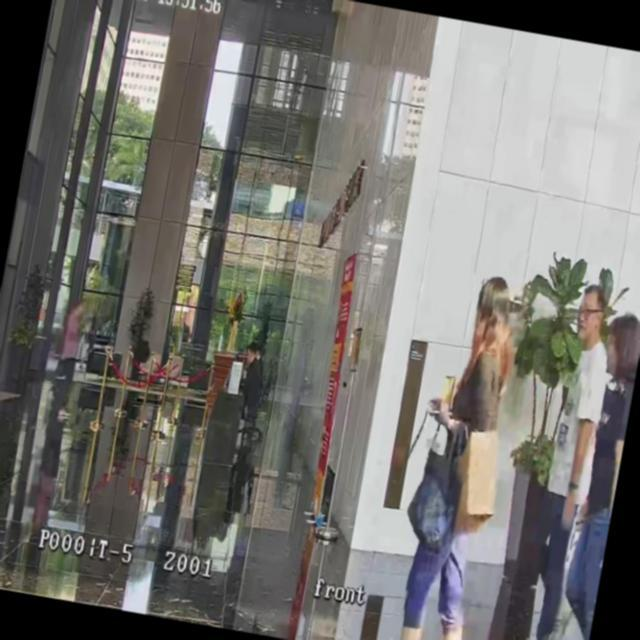person: (383, 266, 531, 640), (510, 278, 626, 640), (547, 307, 640, 640), (51, 297, 91, 420), (232, 338, 270, 422)
